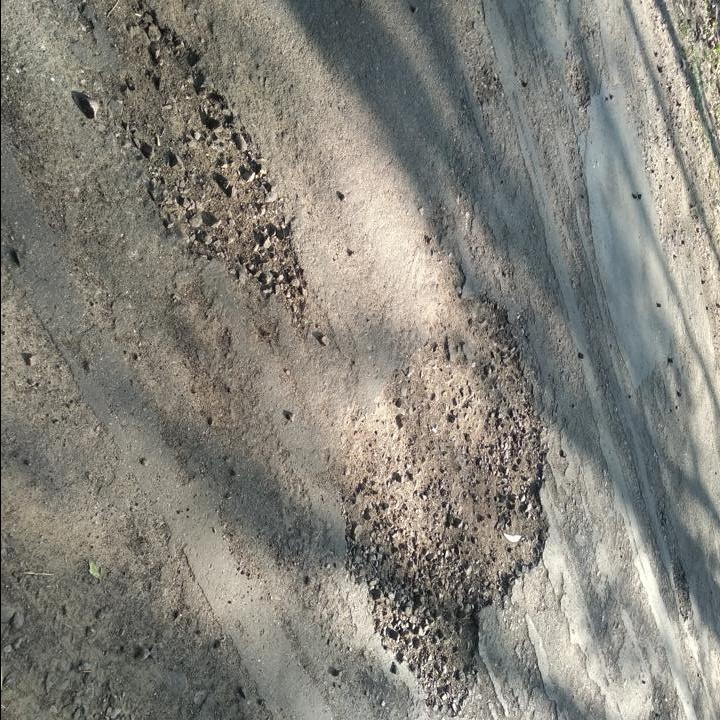pothole: (338, 273, 556, 715), (114, 0, 310, 326)
